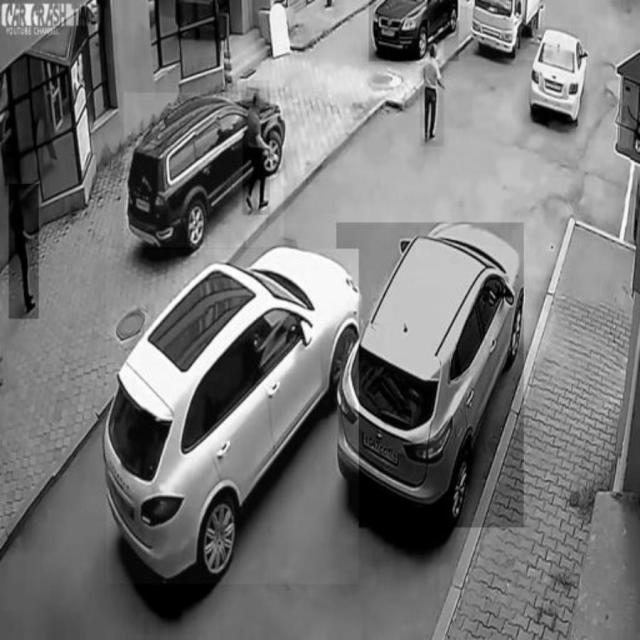person: (9, 184, 39, 318), (242, 80, 270, 214), (420, 39, 444, 147)
vehicle: (106, 249, 358, 584), (337, 223, 524, 527), (124, 93, 284, 247), (531, 27, 588, 131), (369, 0, 459, 61), (468, 0, 545, 60)
